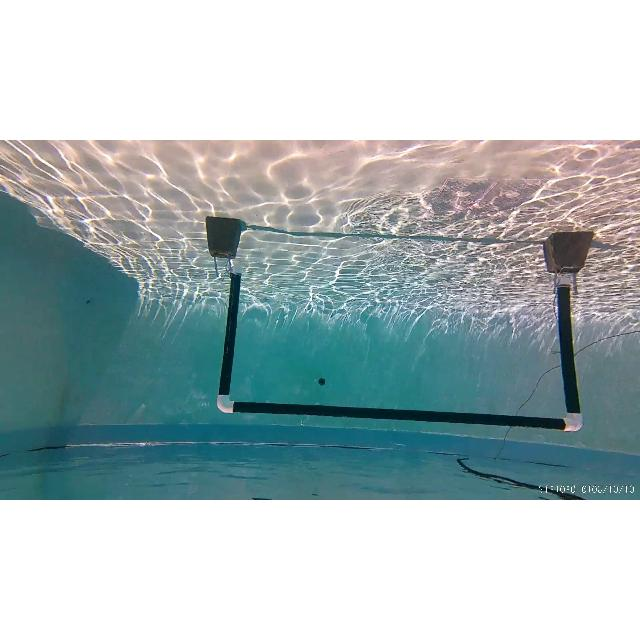prequal gate: (218, 263, 584, 433)
prequal gate leg l: (544, 261, 590, 434)
prequal gate leg r: (213, 264, 254, 422)
